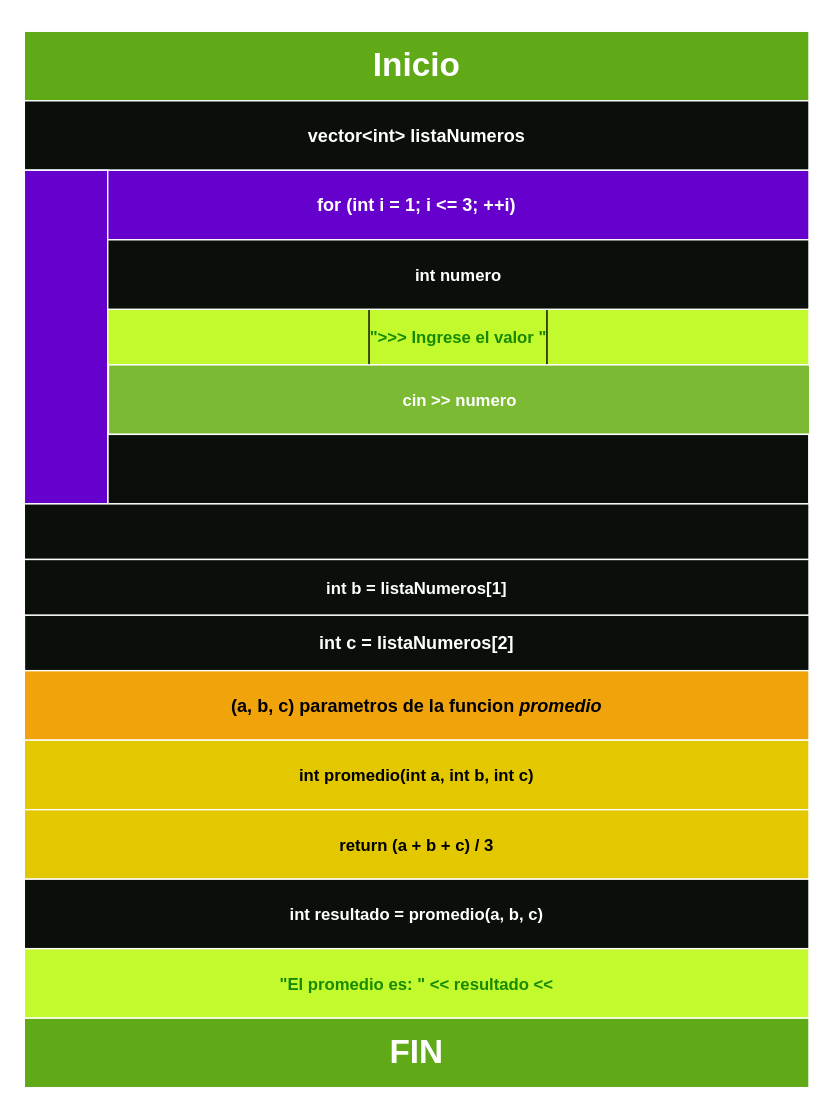
This 835x1119 diagram has some shape labels left out. Here are the shapes that lost their labels. From the top down, the centre of each, then its label:
[457,468]: listaNumeros. push_back (numero)
[416,530]: int a = listaNumeros [ 0 ]
